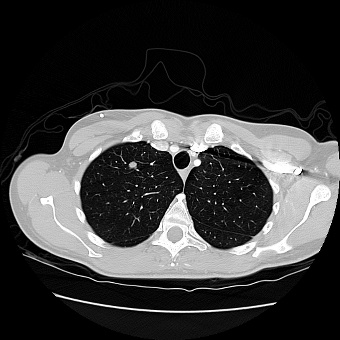PN: (128, 161, 136, 169)
